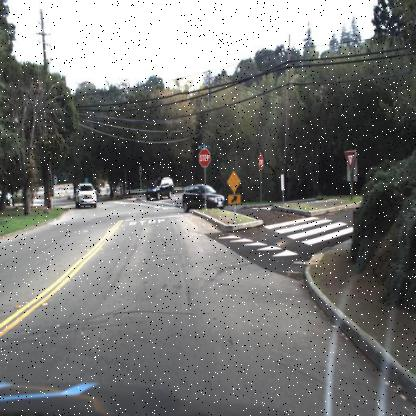car: (179, 180, 225, 216), (142, 172, 173, 203), (71, 181, 100, 212)
